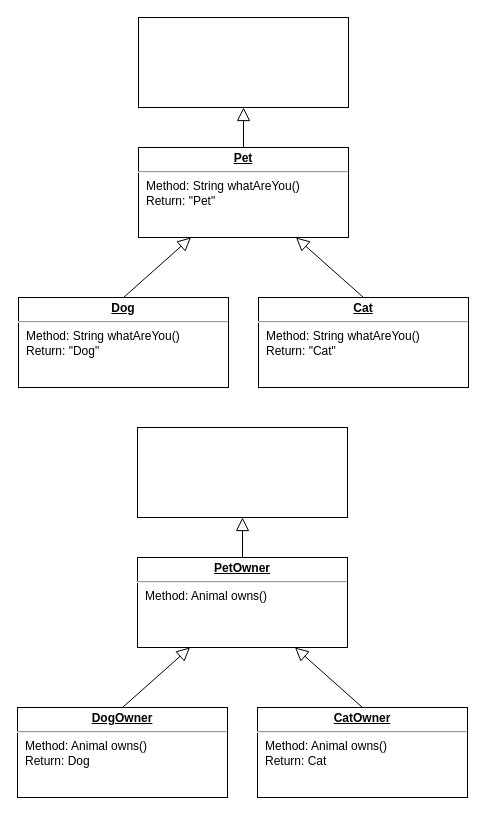
The diagram is 486 pixels wide and 815 high, and some of its shapes have lost their labels. The shapes that lost their labels are listed below. From the top down, each one's box as (x1, y1, x2, y2) in pixels, then its label:
(138, 16, 348, 108): Animal Method: String whatAreYou() Return: "Animal"
(136, 426, 348, 518): Human Method: Animal owns()
